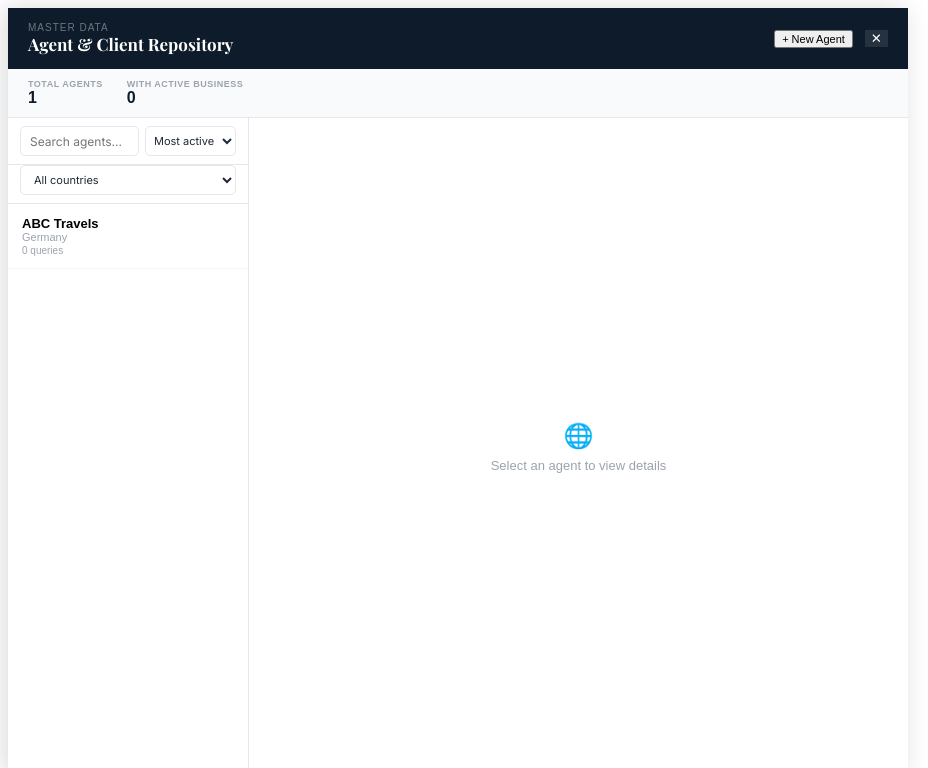
AgentMaster: New/Edit gated by agents_edit › a user with agents_edit sees New and Edit
This screenshot has width=928, height=768.
Expected: the button "+ New Agent" is shown, left=774, top=30, right=853, bottom=48
Click the text "ABC Travels" at (60, 224), box left=22, top=216, right=99, bottom=231
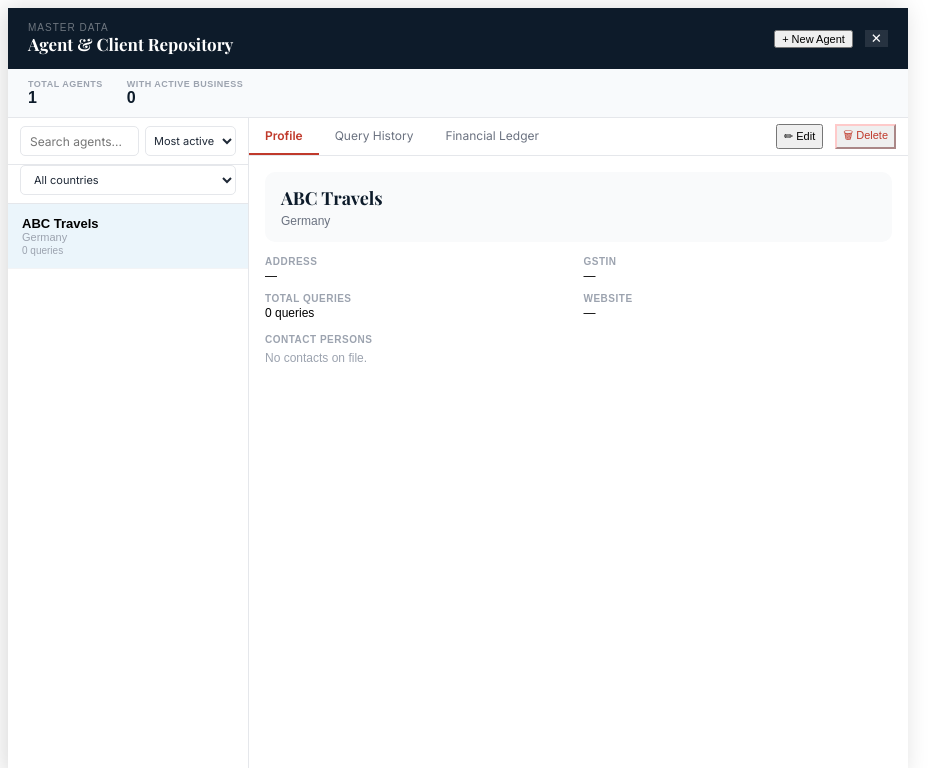
Result: the button "✏ Edit" is shown at left=776, top=124, right=823, bottom=149
